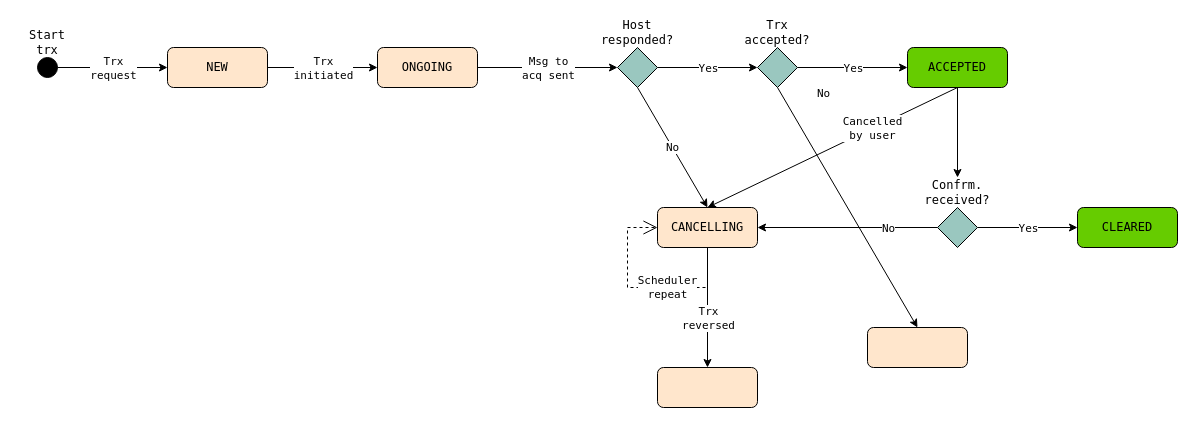
This 1195x425 diagram has some shape labels left out. The centre of each missing label's shape, as x and y in pixels:
"CANCELLED" goes at pixel 707 387.
"DECLINED" goes at pixel 917 347.
